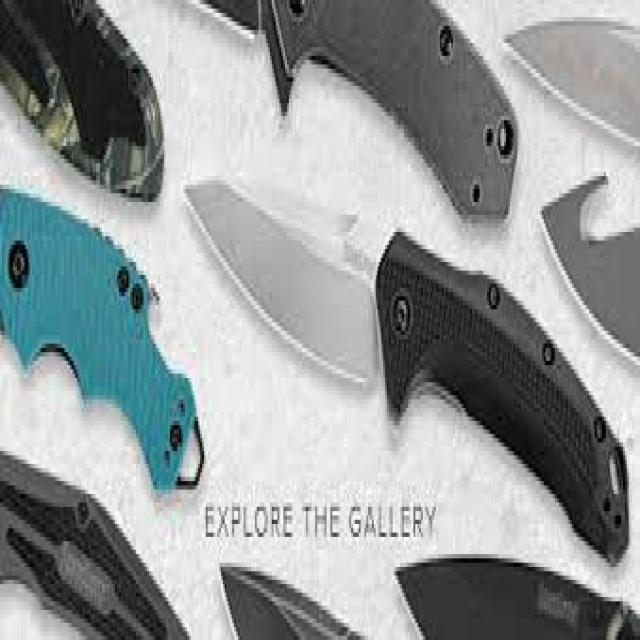knives: (183, 178, 393, 381)
